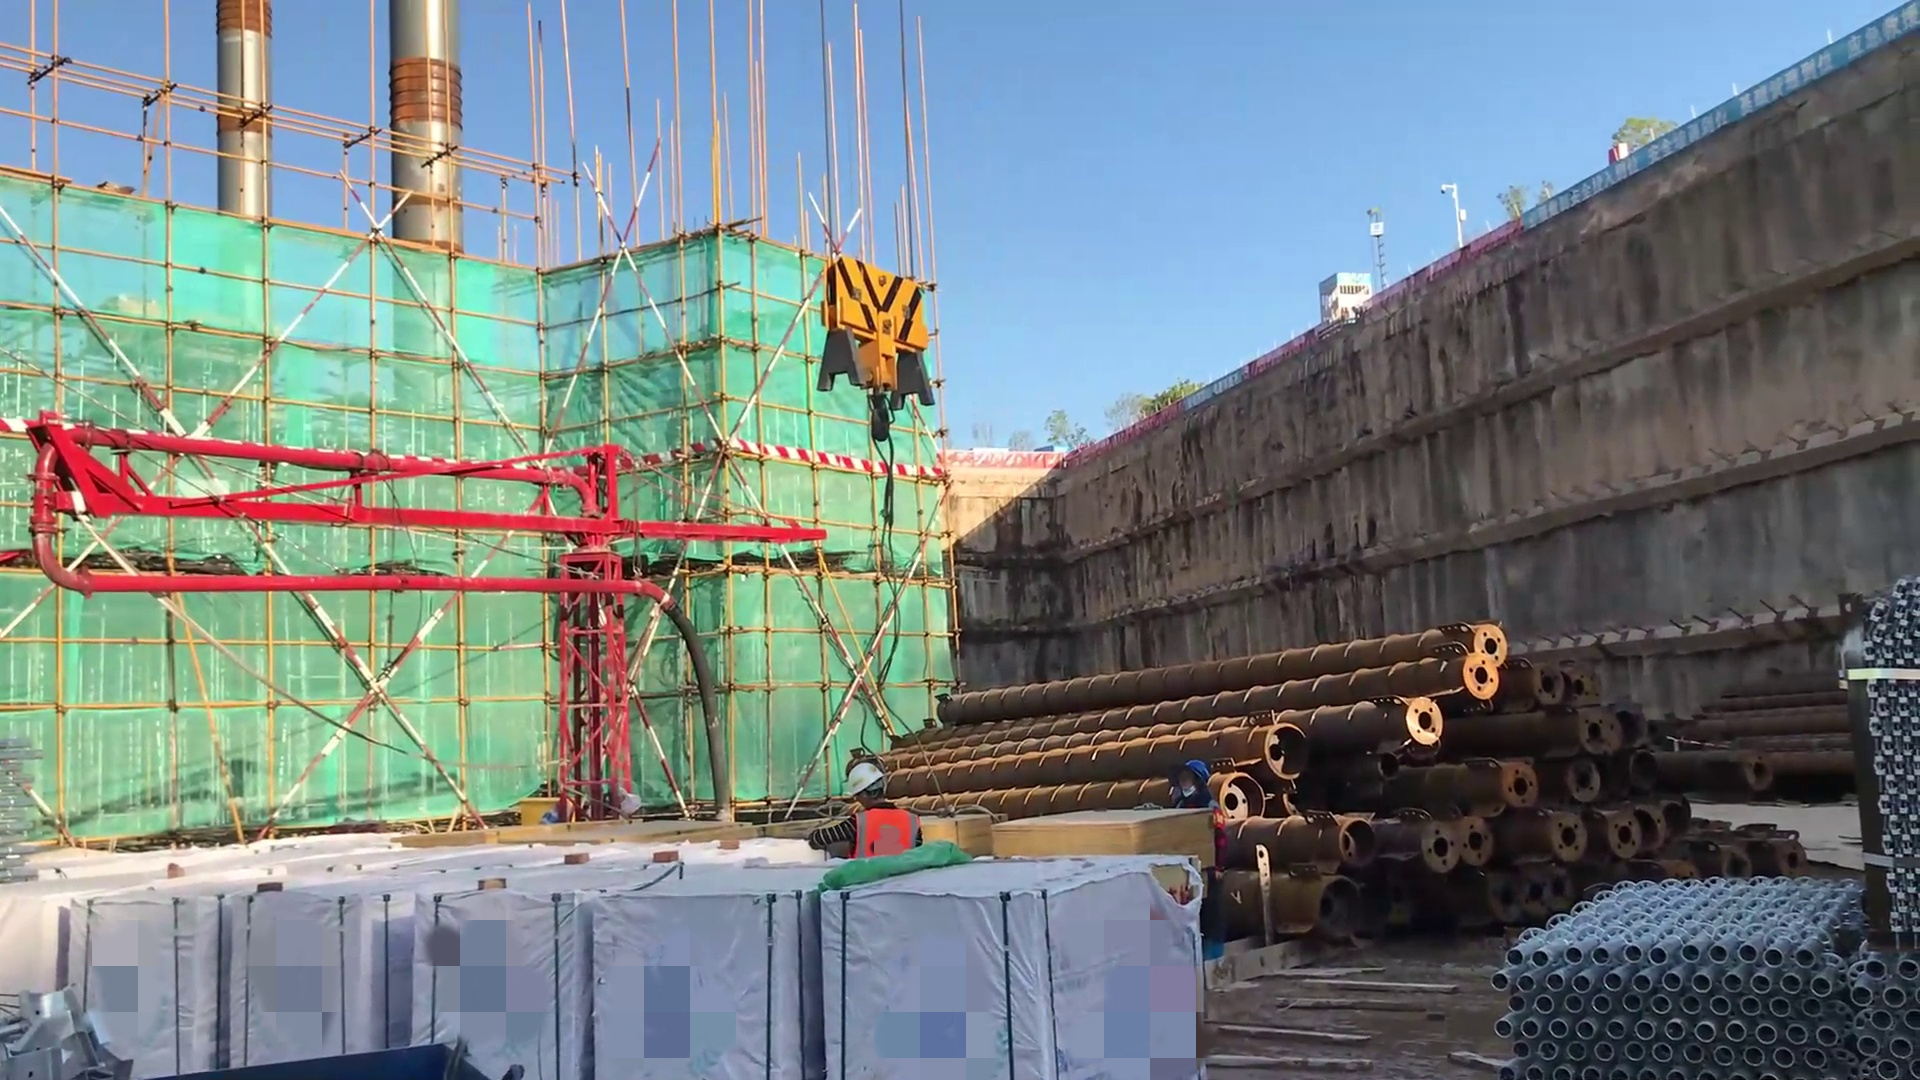board: (991, 808, 1220, 887), (916, 814, 1007, 861)
ebox: (511, 784, 586, 844)
helmet: (838, 756, 900, 820), (1170, 751, 1215, 805)
hook: (826, 235, 965, 489)
person: (1141, 758, 1233, 972), (804, 761, 930, 876)
scaffold: (1508, 856, 1907, 1080), (1847, 566, 1920, 942)
slogan: (1515, 1, 1919, 246), (1177, 364, 1272, 423)
vest: (842, 807, 928, 877)
